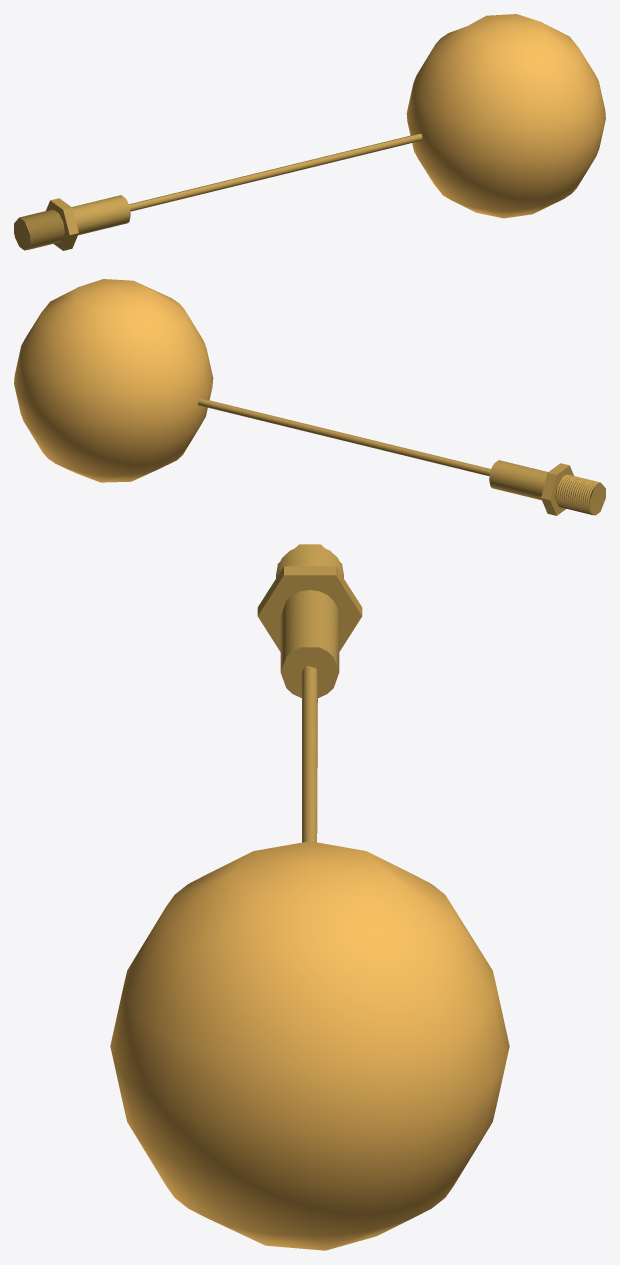
The model's file is HID-REG-005_lod1.glb.
3 renders of one model, top to bottom at view 1: azimuth 30°, elevation 25°; view 2: azimuth 150°, elevation 25°; view 3: azimuth 270°, elevation 25°, orthographic. The views are drawn at different scales.
Visible parts, largest first — view 1: HID-REG-005_boia, HID-REG-005_haste, HID-REG-005_corpo, HID-REG-005_rosca, HID-REG-005_porca; view 2: HID-REG-005_boia, HID-REG-005_haste, HID-REG-005_corpo, HID-REG-005_rosca, HID-REG-005_porca; view 3: HID-REG-005_boia, HID-REG-005_corpo, HID-REG-005_porca, HID-REG-005_haste, HID-REG-005_rosca.
Part boxes in pixels (x1,y1,x2,y2): HID-REG-005_boia: (406, 14, 605, 218); HID-REG-005_haste: (129, 133, 422, 211); HID-REG-005_corpo: (72, 195, 130, 235); HID-REG-005_rosca: (14, 209, 64, 250); HID-REG-005_porca: (46, 198, 78, 250); HID-REG-005_boia: (14, 279, 213, 482); HID-REG-005_haste: (198, 398, 490, 476); HID-REG-005_corpo: (489, 460, 547, 500); HID-REG-005_rosca: (555, 474, 605, 515); HID-REG-005_porca: (541, 463, 573, 515); HID-REG-005_boia: (110, 841, 509, 1250); HID-REG-005_corpo: (280, 590, 339, 697); HID-REG-005_porca: (257, 566, 362, 651); HID-REG-005_haste: (302, 666, 317, 842); HID-REG-005_rosca: (276, 544, 343, 577).
Size of the model in its own units: 0.495 by 0.15 by 0.15.
2 materials, 1 textured.
